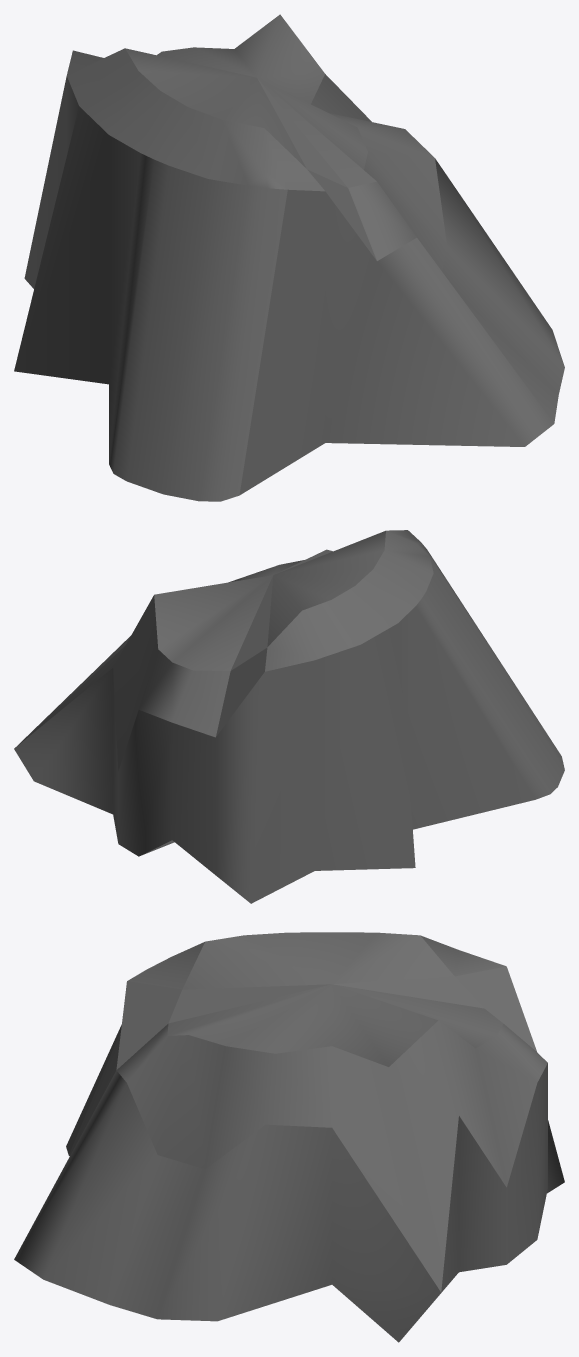
The model's file is rock2.fbx.
3 views of the same model, one above another, from view 1: azimuth 30°, elevation 25°; view 2: azimuth 150°, elevation 25°; view 3: azimuth 270°, elevation 25° (orthographic). The views are drawn at different scales.
Visible parts, largest first — view 1: pCylinder1; view 2: pCylinder1; view 3: pCylinder1.
Boxes of the visible parts, x1,y1,x2,y2 form: pCylinder1: (14, 14, 564, 501); pCylinder1: (14, 530, 564, 903); pCylinder1: (14, 932, 564, 1342).
Bounding box in the file's own units: 5.42 × 3.16 × 5.95.
1 material, 1 textured.
